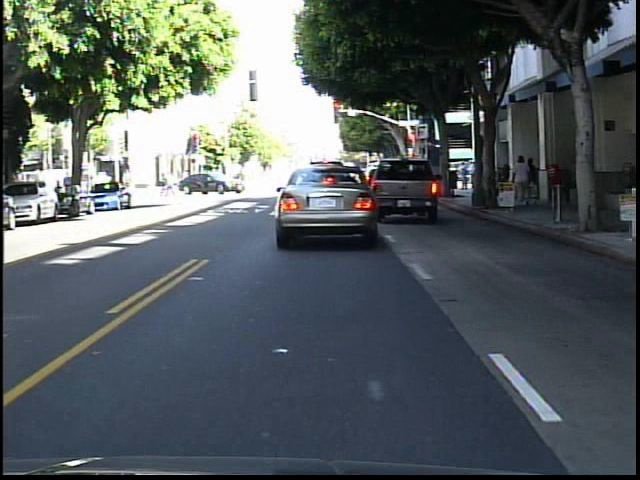person: (514, 154, 534, 209), (526, 153, 540, 207), (62, 169, 80, 206)
